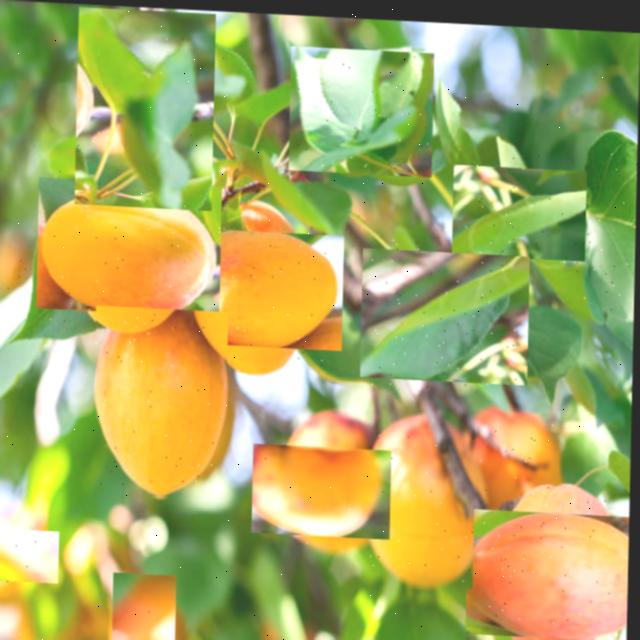Apricot: (50, 164, 210, 328), (96, 308, 228, 495), (178, 209, 329, 364), (483, 488, 632, 640), (366, 421, 478, 584), (266, 429, 383, 547), (480, 408, 561, 502), (110, 576, 185, 640), (0, 518, 53, 592), (0, 234, 34, 296), (0, 598, 34, 640)
Leaf: (60, 21, 231, 194), (371, 235, 522, 389), (294, 38, 431, 178), (465, 147, 584, 268), (584, 124, 638, 318)
